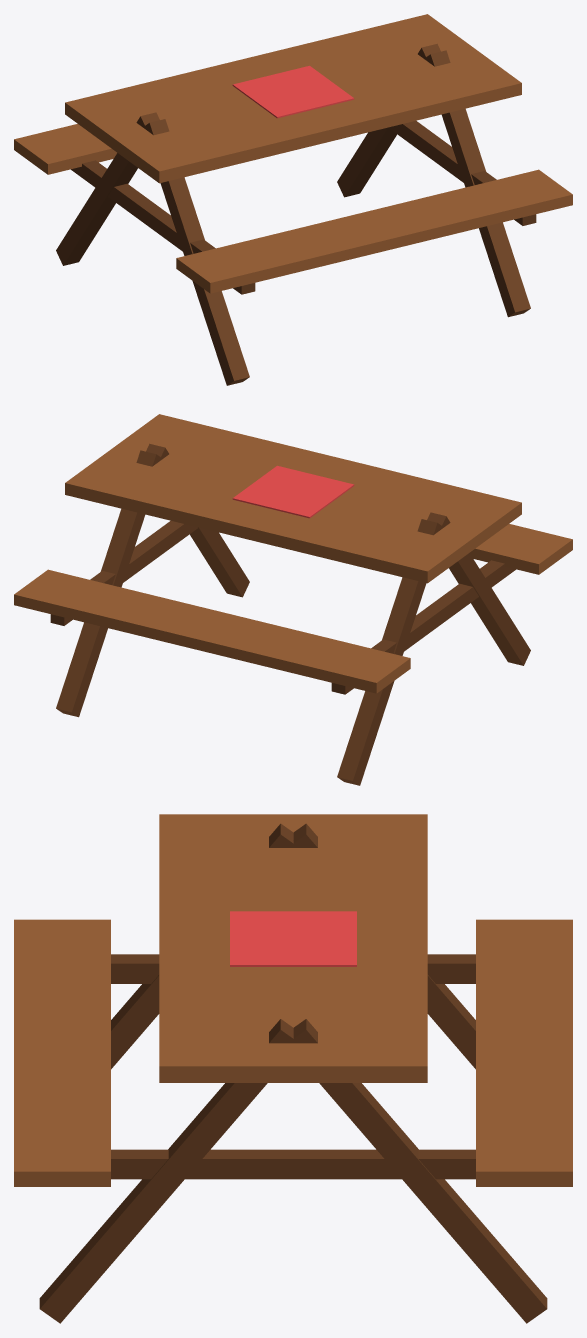
Rendered from table.glb.
The picture shows the model from 3 angles, top to bottom: view 1: azimuth 30°, elevation 25°; view 2: azimuth 150°, elevation 25°; view 3: azimuth 270°, elevation 25°; orthographic projection. The views are drawn at different scales.
Parts seen in each view (by area): view 1: PicnicTable; view 2: PicnicTable; view 3: PicnicTable.
Boxes of the visible parts, bbox=[...] form: PicnicTable: bbox=[14, 14, 572, 385]; PicnicTable: bbox=[14, 414, 572, 785]; PicnicTable: bbox=[14, 814, 572, 1323].
Bounding box in the file's own units: 1.6 × 0.8705 × 1.5.
